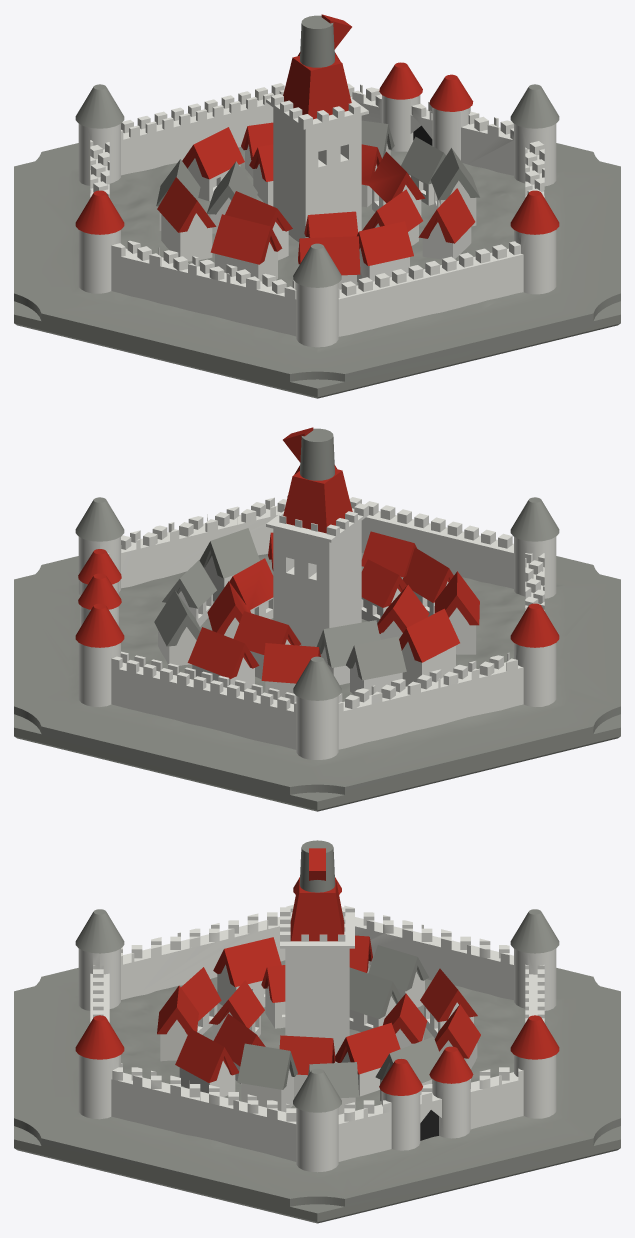
File: hauptstadt_1.glb
3 views of the same model, one above another, from view 1: azimuth 30°, elevation 25°; view 2: azimuth 150°, elevation 25°; view 3: azimuth 270°, elevation 25° (orthographic).
Parts seen in each view (by area): view 1: hauptstadt_1; view 2: hauptstadt_1; view 3: hauptstadt_1.
Boxes of the visible parts, box(x1,y1,x2,y2) form: hauptstadt_1: box(14, 14, 620, 398); hauptstadt_1: box(14, 427, 620, 811); hauptstadt_1: box(14, 840, 620, 1223).
Size of the model in its own units: 65.24 by 23.9 by 56.5.
